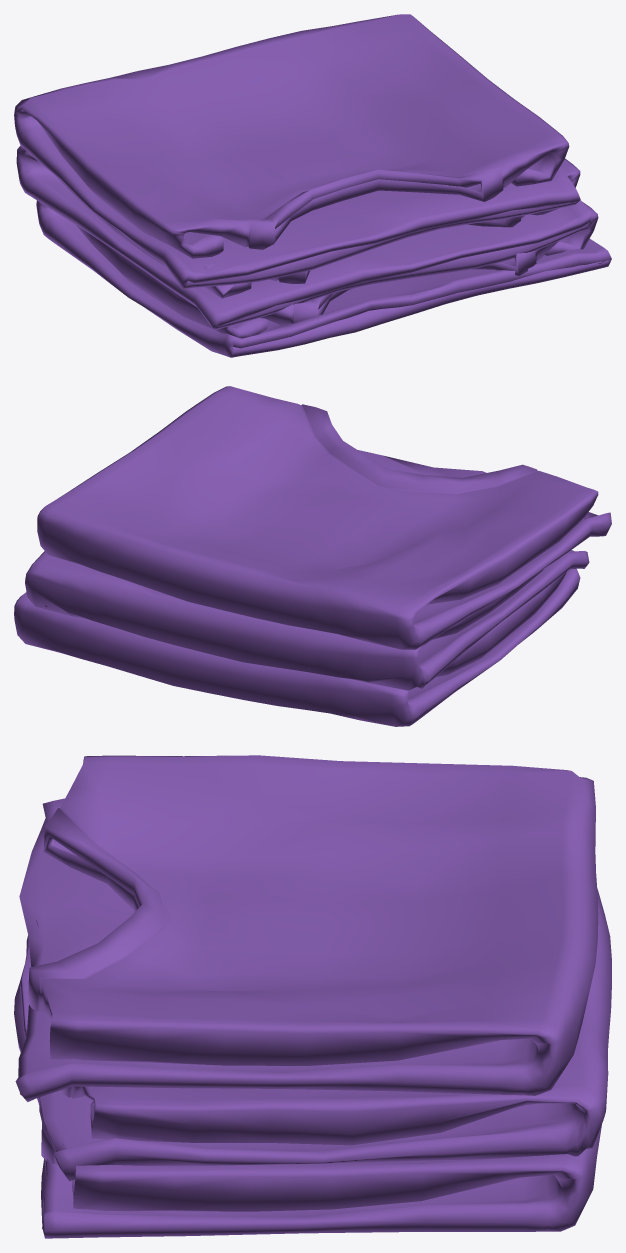
Rendered from Folded_T_Shirt02.fbx.
3 views of the same model, one above another, from view 1: azimuth 30°, elevation 25°; view 2: azimuth 150°, elevation 25°; view 3: azimuth 270°, elevation 25° (orthographic). The views are drawn at different scales.
Visible parts, largest first — view 1: Folded_T_Shirt02; view 2: Folded_T_Shirt02; view 3: Folded_T_Shirt02.
Boxes of the visible parts, x1,y1,x2,y2 form: Folded_T_Shirt02: (14, 14, 611, 357); Folded_T_Shirt02: (14, 386, 611, 726); Folded_T_Shirt02: (14, 755, 611, 1238).
Size of the model in its own units: 39.71 by 11.89 by 33.24.
